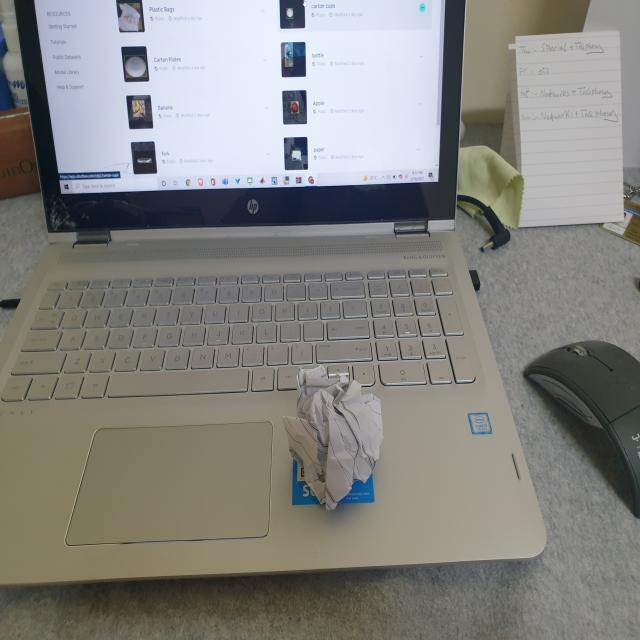Paper: (280, 368, 385, 508)
